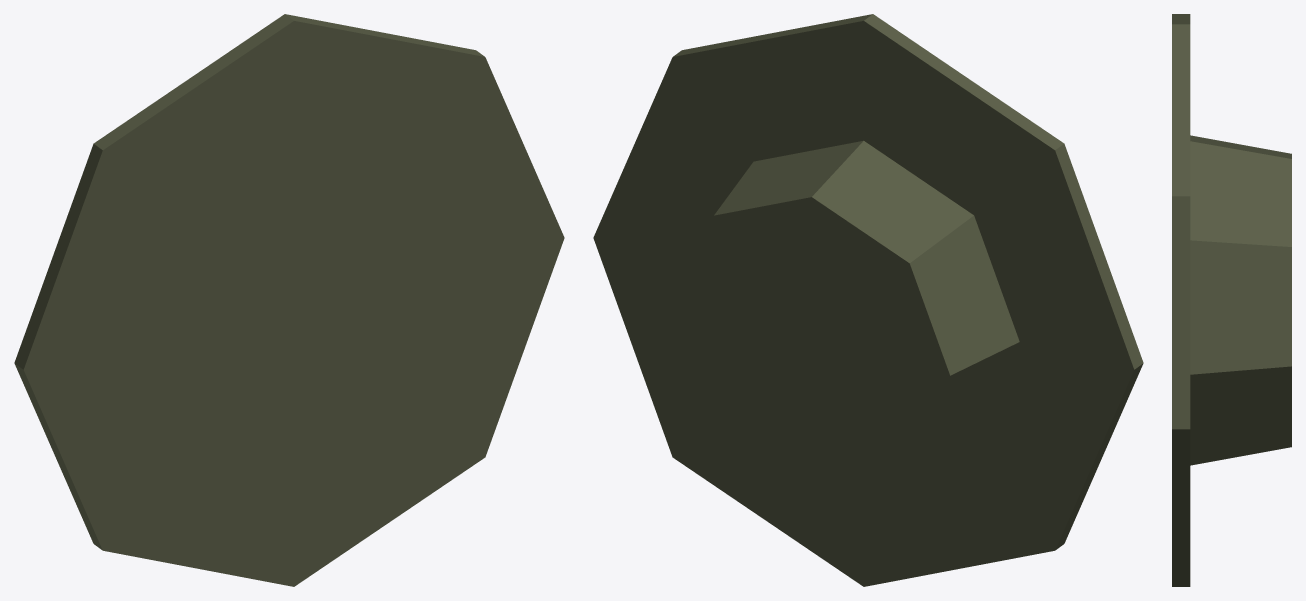
File: boonie_hat.glb
3 views of the same model, side by side, from view 1: azimuth 30°, elevation 25°; view 2: azimuth 150°, elevation 25°; view 3: azimuth 270°, elevation 25° (orthographic). The views are drawn at different scales.
Parts seen in each view (by area): view 1: boonie_hat; view 2: boonie_hat; view 3: boonie_hat.
Part boxes in pixels (x1,y1,x2,y2): boonie_hat: (14, 14, 564, 586); boonie_hat: (593, 14, 1143, 586); boonie_hat: (1172, 14, 1291, 586).
Size of the model in its own units: 0.336 by 0.336 by 0.066.
Materials: 1 (1 with a texture image).
